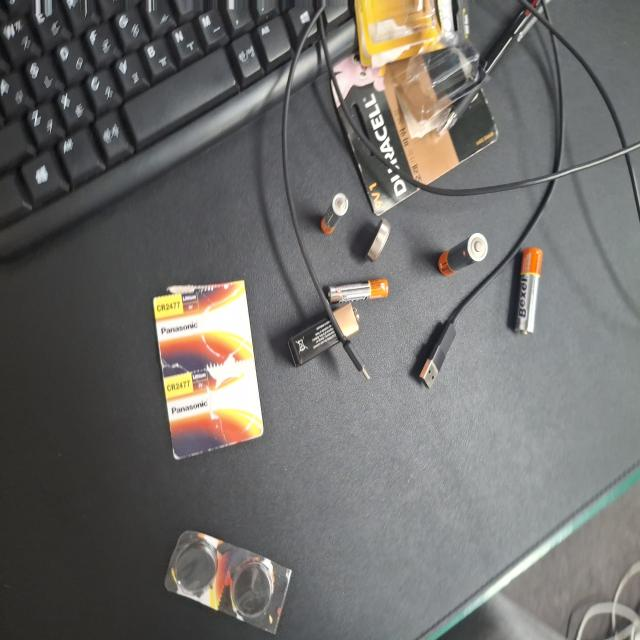9V: (228, 373, 276, 465)
AA: (184, 129, 252, 167), (174, 201, 207, 271)
AAA: (208, 335, 228, 417), (143, 386, 177, 428)
COIN: (164, 333, 197, 364)
